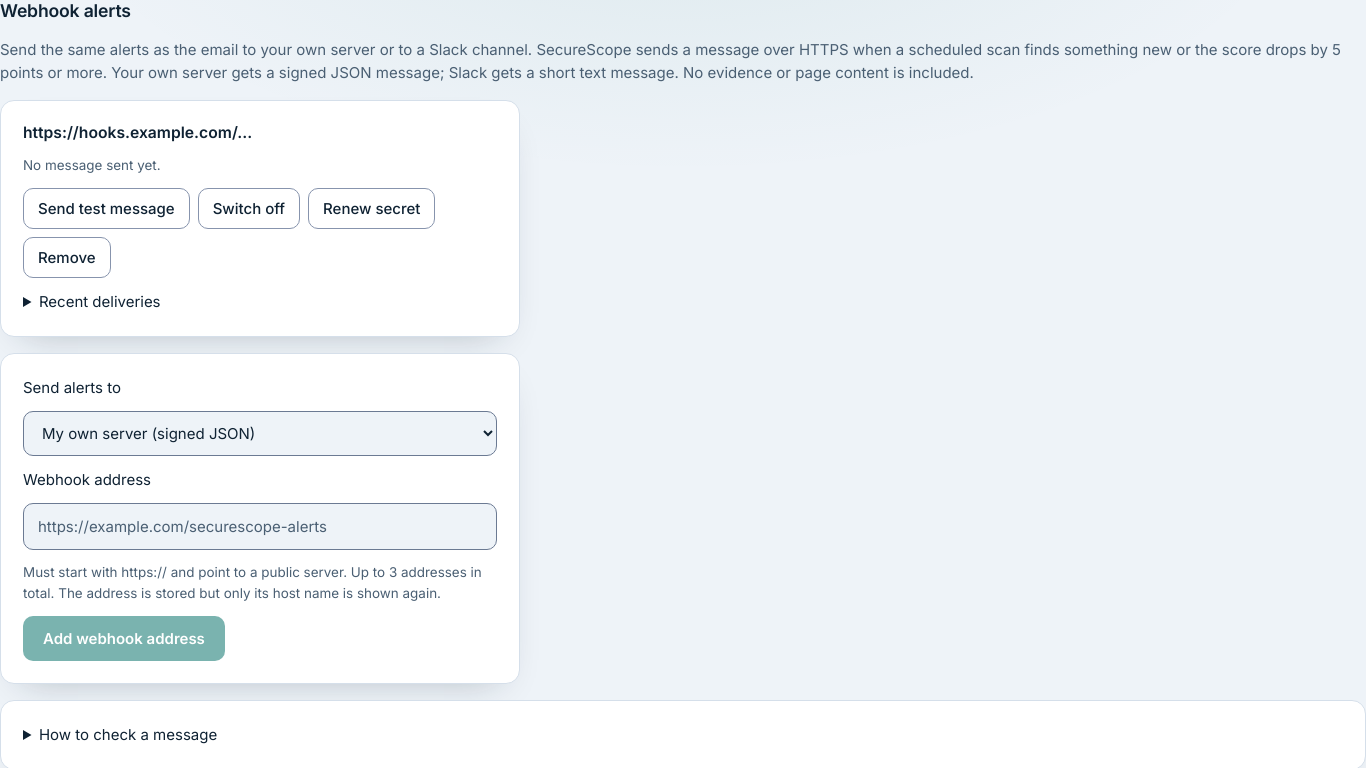
Scenario: webhook alerts › asks twice before removing an address
Step 1. Click the button "Remove" → point(67, 258), box [23,237,111,278]
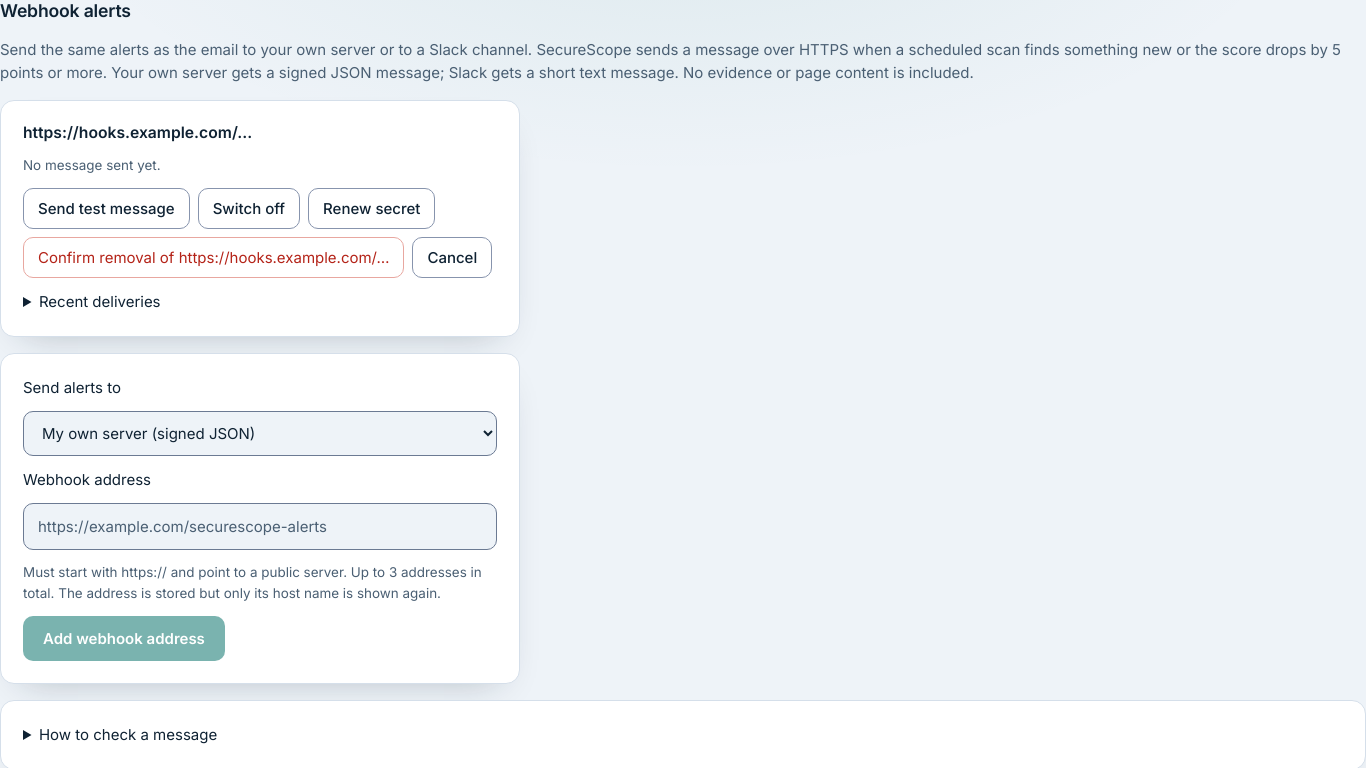
Step 2. Click the button "Confirm removal of https://hooks.example.com/…" → point(214, 258), box [23,237,404,278]
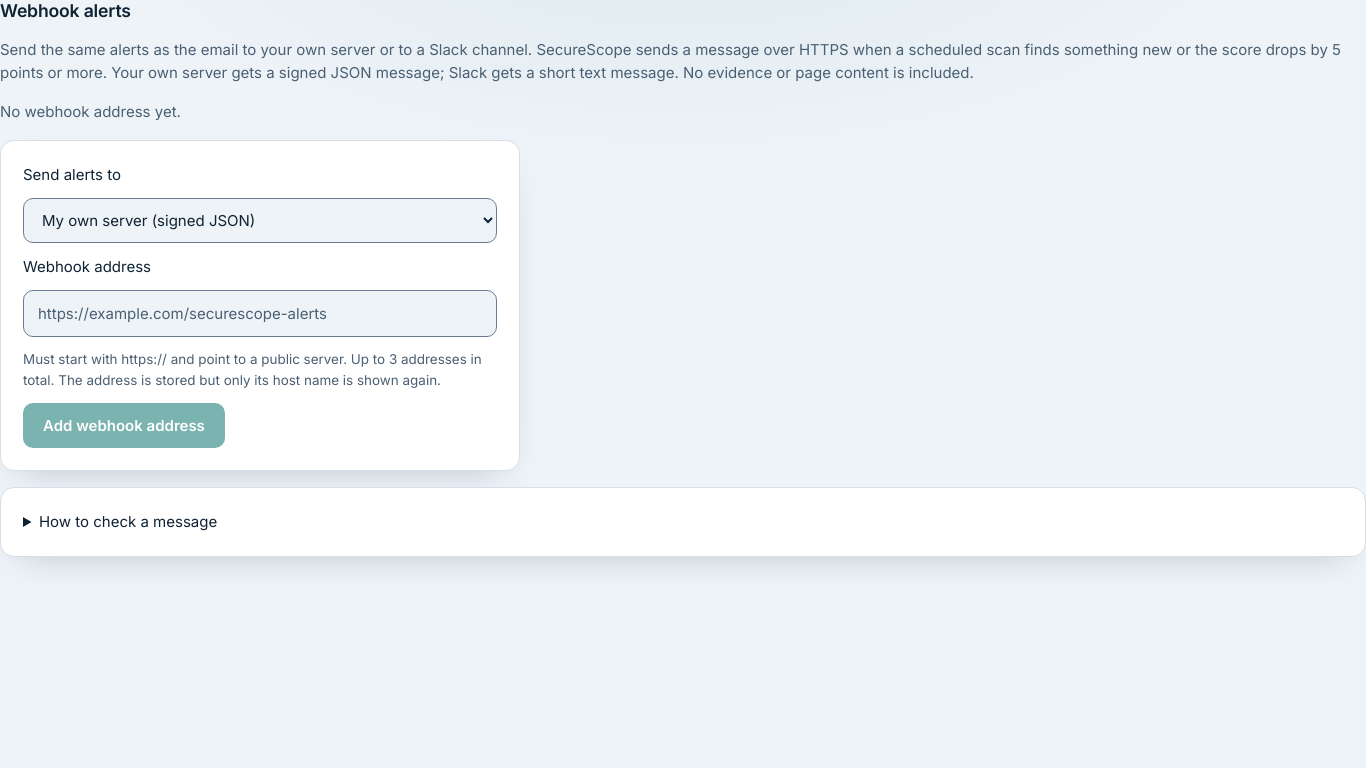
Result: the heading "https://hooks.example.com/…" is gone
